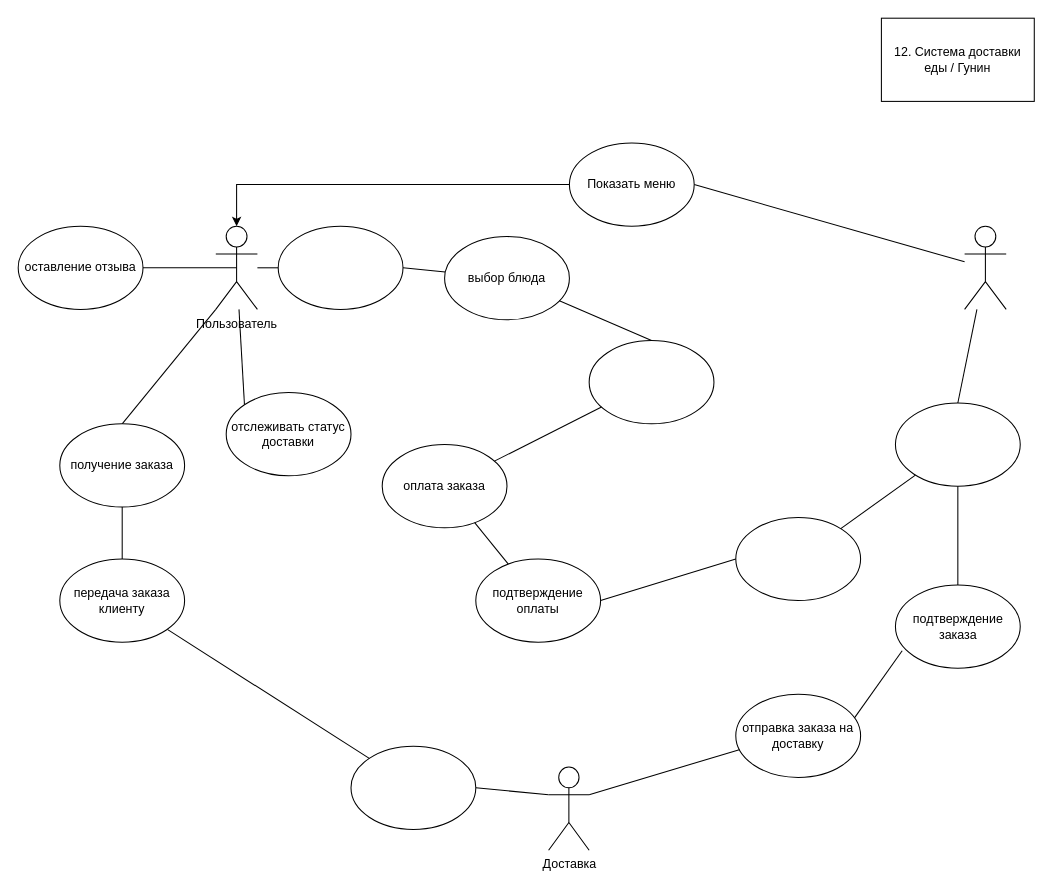
Some shapes in this 1052 by 890 pixel diagram are drawn without their labels. Here are the shapes that lost their labels. From the top down, the centre of each, then its label:
At (340,267): "выбор ресторана".
At (985,267): "Ресторан".
At (651,382): "оформление заказа".
At (957,444): "обработка заказа".
At (798,558): "отправка заказа на обработку".
At (413,787): "выполнение доставки".
